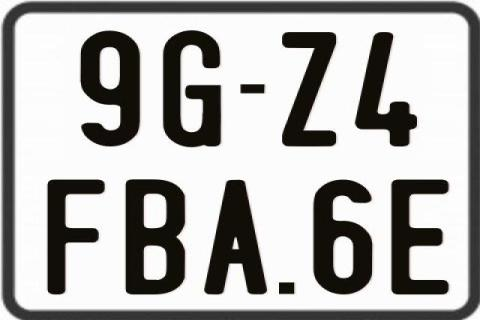0: (310, 179, 375, 297), (80, 30, 145, 146), (354, 31, 416, 149)
A: (201, 177, 264, 297)
B: (123, 178, 183, 298)
E: (392, 179, 452, 299)
F: (44, 177, 108, 293)
G: (162, 29, 220, 151)
Z: (282, 32, 338, 148)
